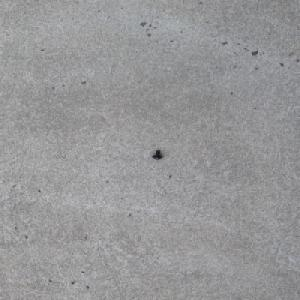BoltWasher: (151, 149, 163, 159)
